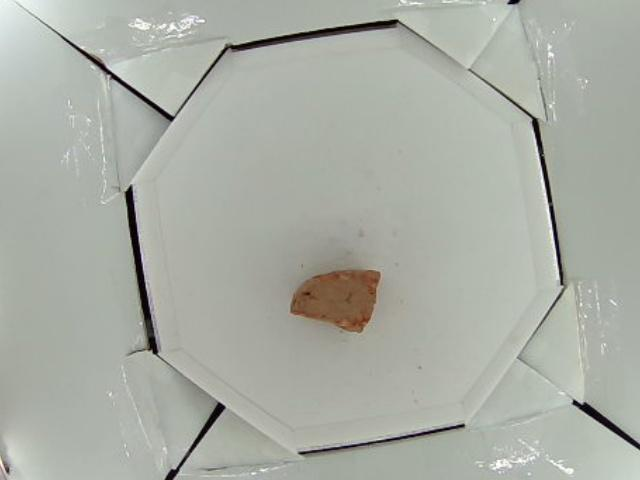Brisk: (291, 269, 381, 333)
